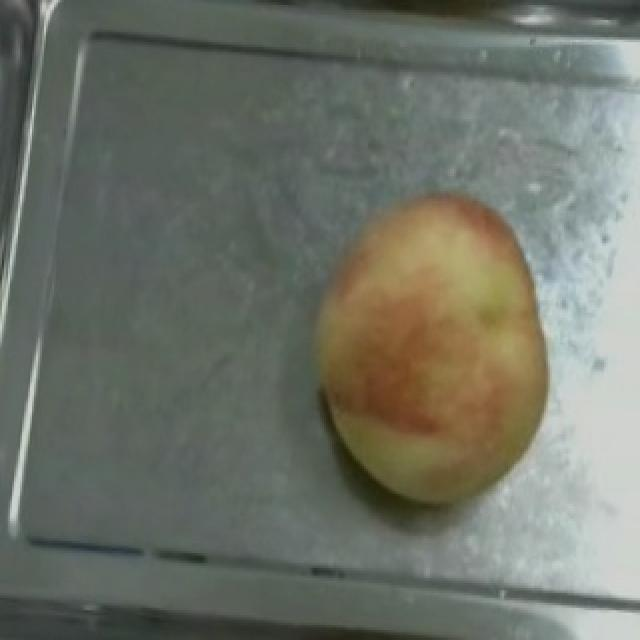Fruit: (294, 178, 570, 526)
